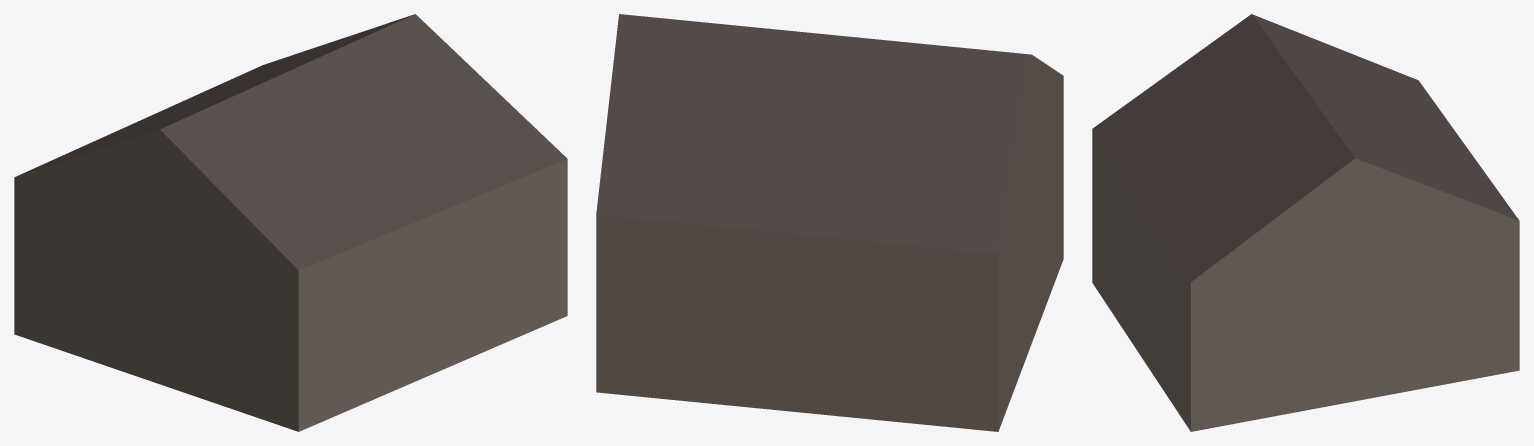
3 renders of one model, left to right at view 1: azimuth 30°, elevation 25°; view 2: azimuth 150°, elevation 25°; view 3: azimuth 270°, elevation 25°, orthographic. The views are drawn at different scales.
Parts seen in each view (by area): view 1: HP-w1512914132; view 2: HP-w1512914132; view 3: HP-w1512914132.
Part boxes in pixels (<box>): HP-w1512914132: <box>14,14,567,431</box>; HP-w1512914132: <box>596,14,1063,431</box>; HP-w1512914132: <box>1092,14,1519,431</box>.
Bounding box in the file's own units: 17.36 × 9.74 × 15.52.
